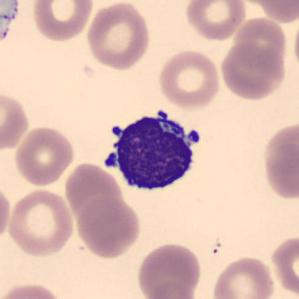Lymphocyte: (97, 104, 207, 198)
RBC: (5, 186, 75, 259), (84, 0, 152, 71), (58, 164, 127, 232), (73, 195, 143, 260), (218, 41, 288, 102), (156, 48, 223, 110), (134, 240, 204, 298), (13, 124, 76, 188), (232, 13, 289, 72), (259, 118, 298, 202), (210, 254, 277, 299), (29, 0, 96, 43), (182, 0, 248, 42), (0, 89, 32, 155), (267, 232, 299, 298), (0, 280, 66, 299), (256, 0, 298, 25), (142, 282, 201, 299), (0, 182, 13, 244), (291, 13, 299, 77)
